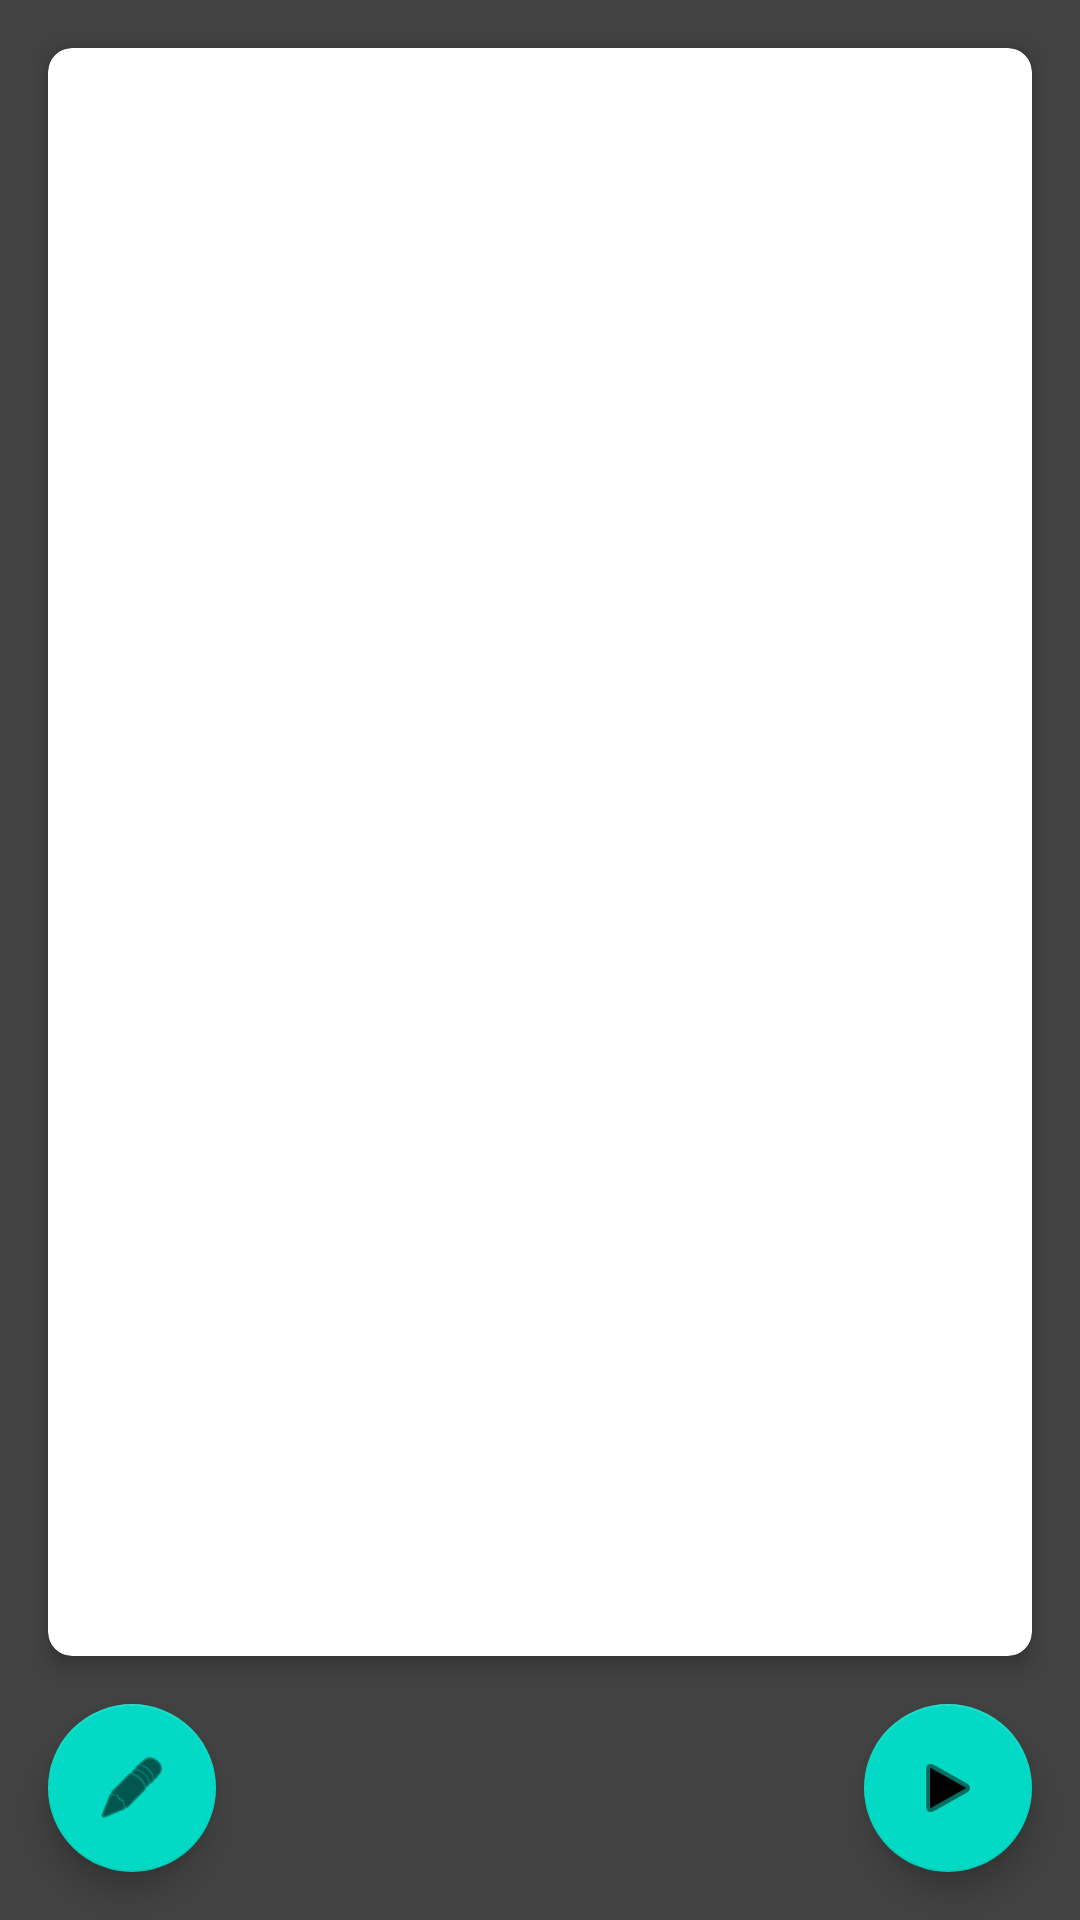

Where to tap for icons on this 1080*1920 app screen, as (x,y):
edit: (132,1788)
play: (948,1788)
